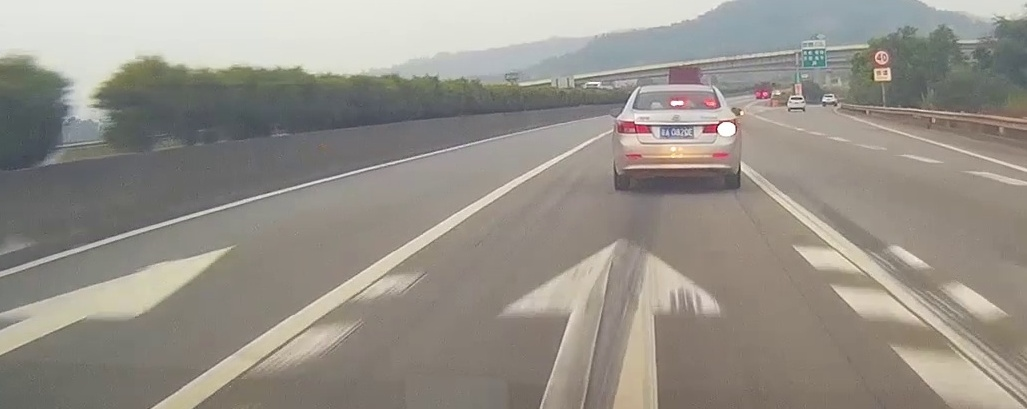L_light: (618, 120, 652, 134)
R_light: (703, 122, 736, 136)
T_light: (670, 101, 684, 106)
day-right: (613, 83, 741, 190)
